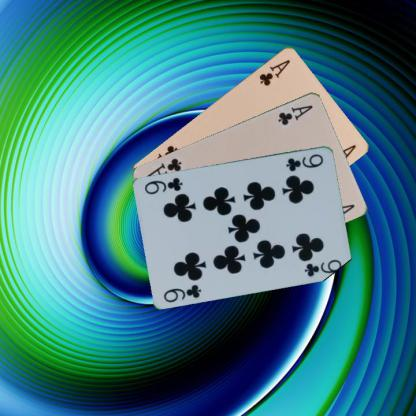9c: (161, 282, 203, 304), (283, 151, 325, 172)
Ac: (256, 57, 292, 87), (276, 102, 314, 127)
